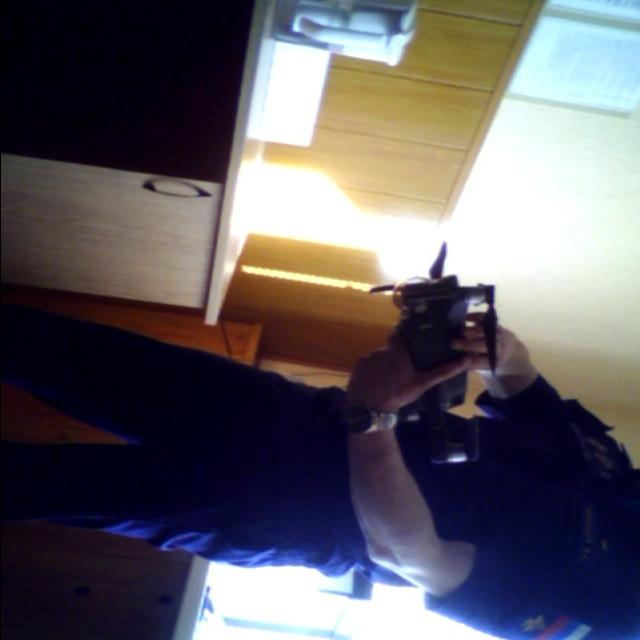drone: (372, 242, 509, 490)
